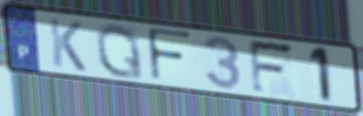1: (307, 46, 334, 106)
3: (201, 34, 243, 92)
F: (246, 38, 298, 97), (144, 25, 194, 85)
K: (47, 15, 89, 74)
Q: (93, 21, 146, 82)
